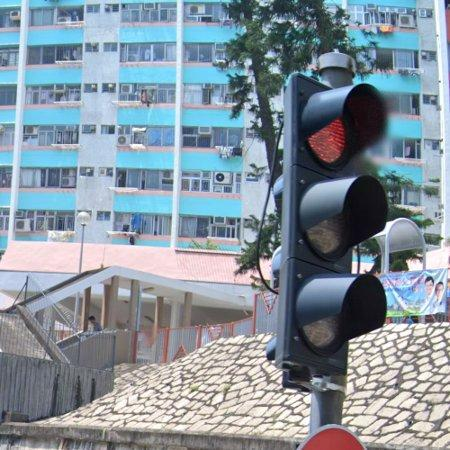traffic lights: (283, 62, 392, 364)
